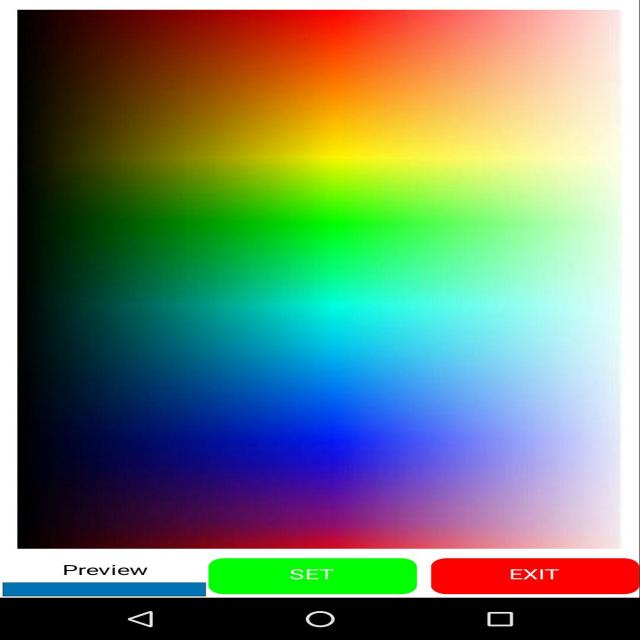button: (454, 543, 640, 601), (227, 570, 482, 578)
image: (24, 11, 640, 480)
text: (39, 545, 167, 583)
